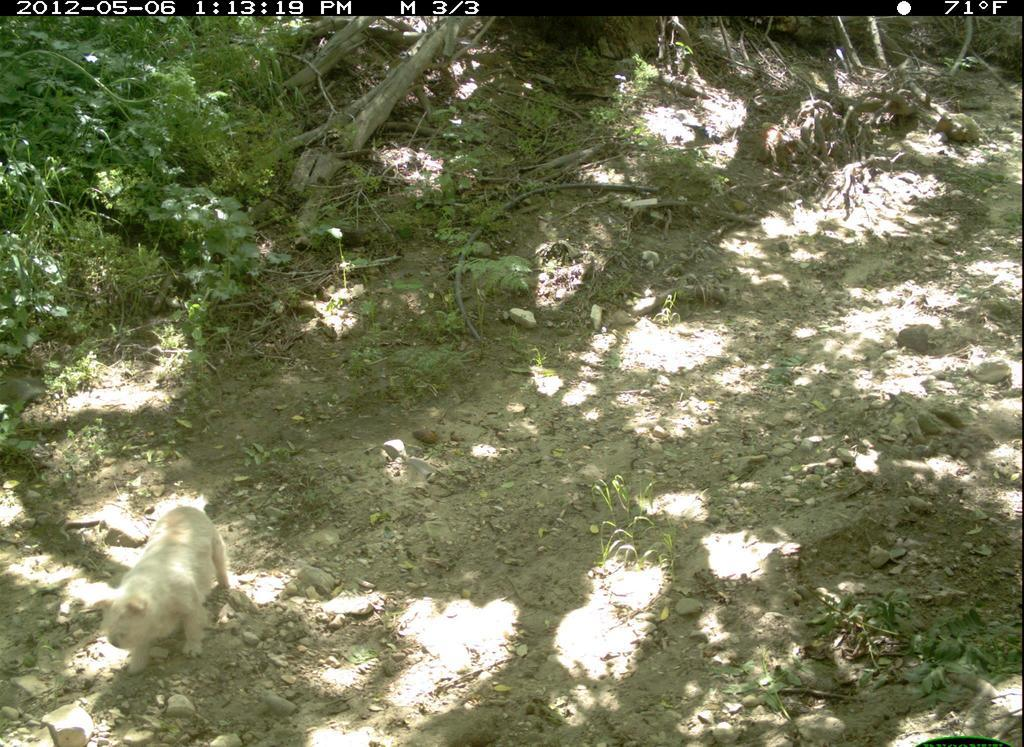dog: (90, 504, 242, 679)
